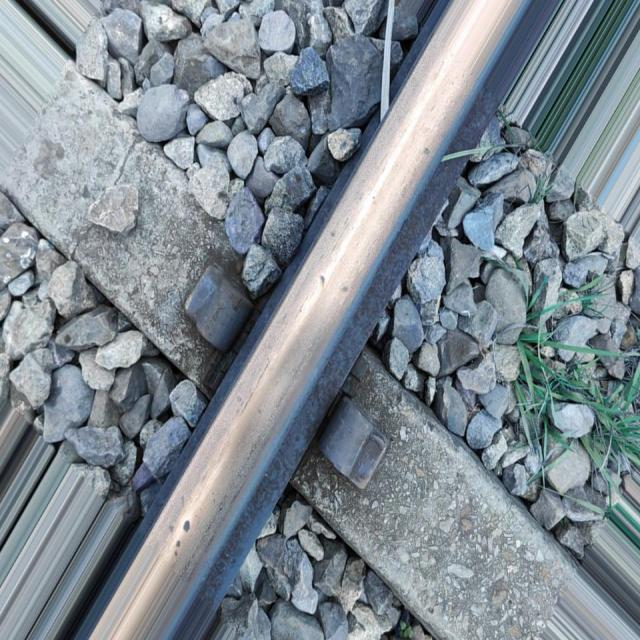Missing Fastener: (178, 235, 253, 358), (314, 410, 388, 503)
